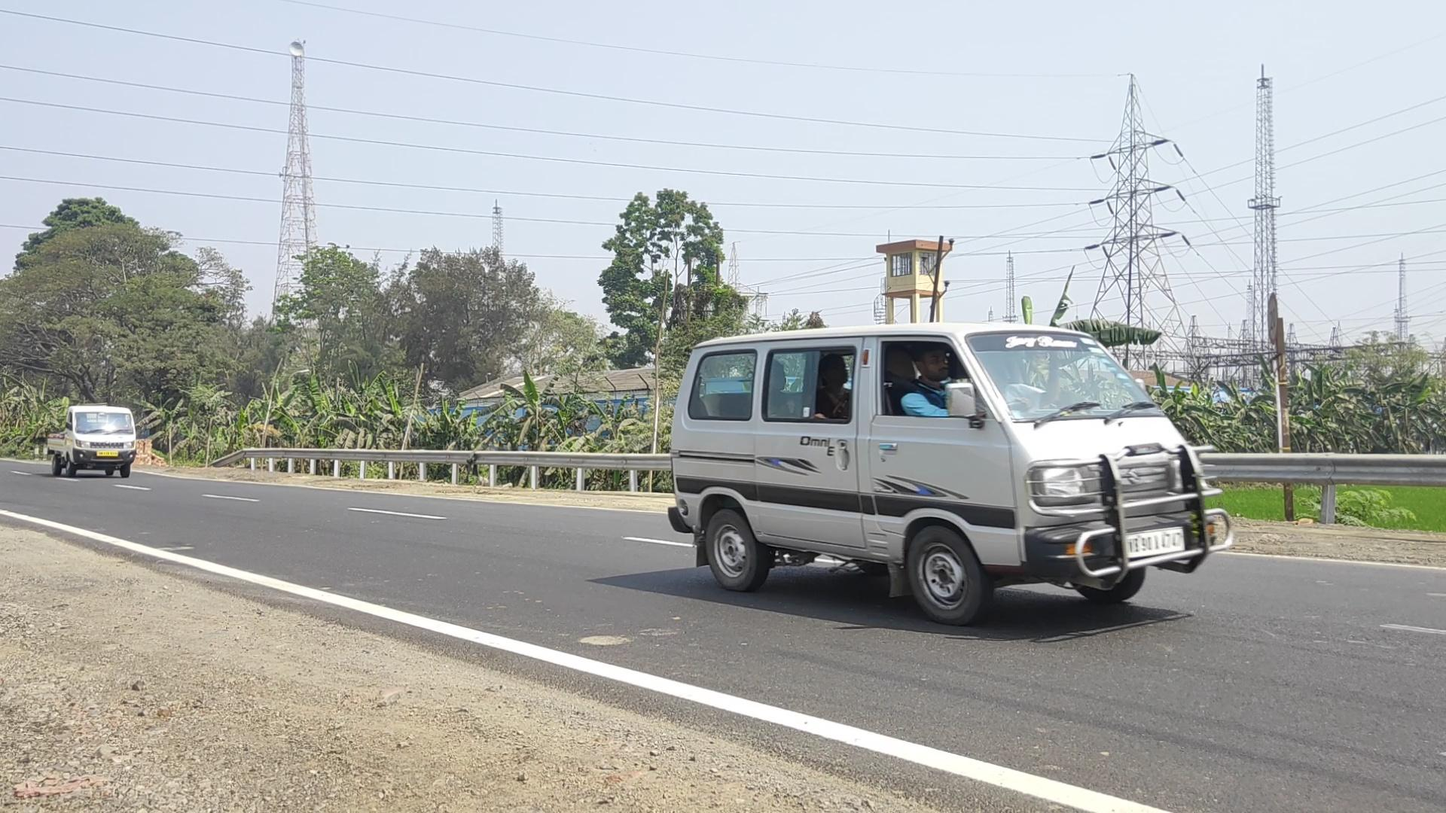van: (667, 322, 1233, 624), (47, 404, 136, 478)
